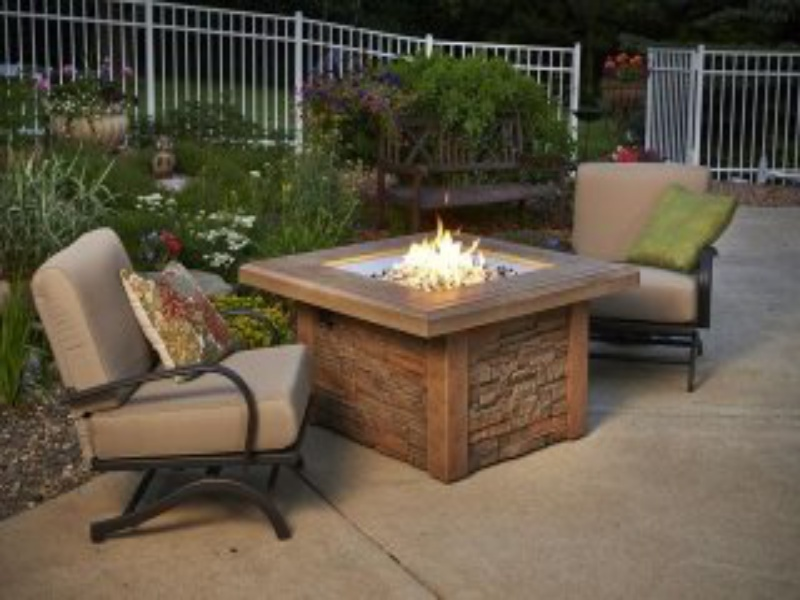fire: (403, 225, 486, 276)
